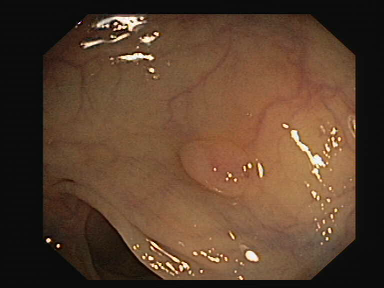polyp: (168, 124, 271, 210)
